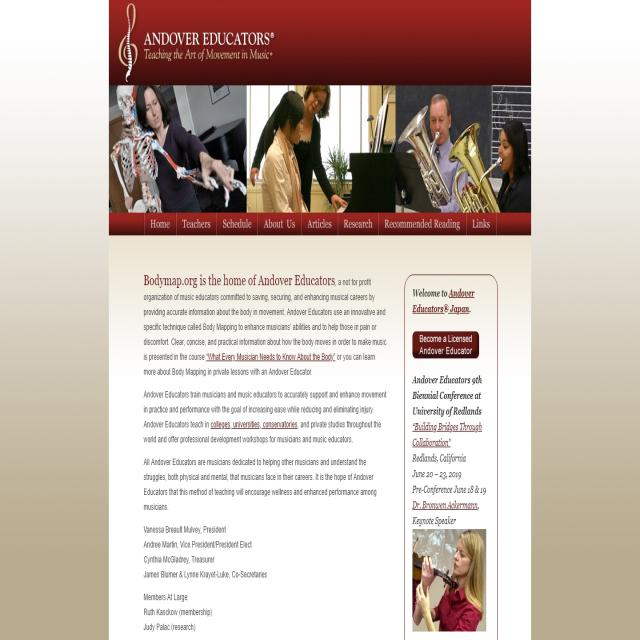button: (380, 214, 466, 237), (412, 331, 479, 357), (176, 212, 216, 235), (258, 214, 300, 232), (339, 215, 379, 232), (302, 214, 336, 233), (466, 213, 496, 234), (218, 215, 255, 232), (146, 215, 174, 234)
heading: (145, 28, 276, 66), (410, 284, 478, 318)
image: (108, 85, 532, 214), (413, 530, 487, 634), (113, 5, 144, 85)
text: (138, 271, 390, 640), (408, 374, 489, 528)
